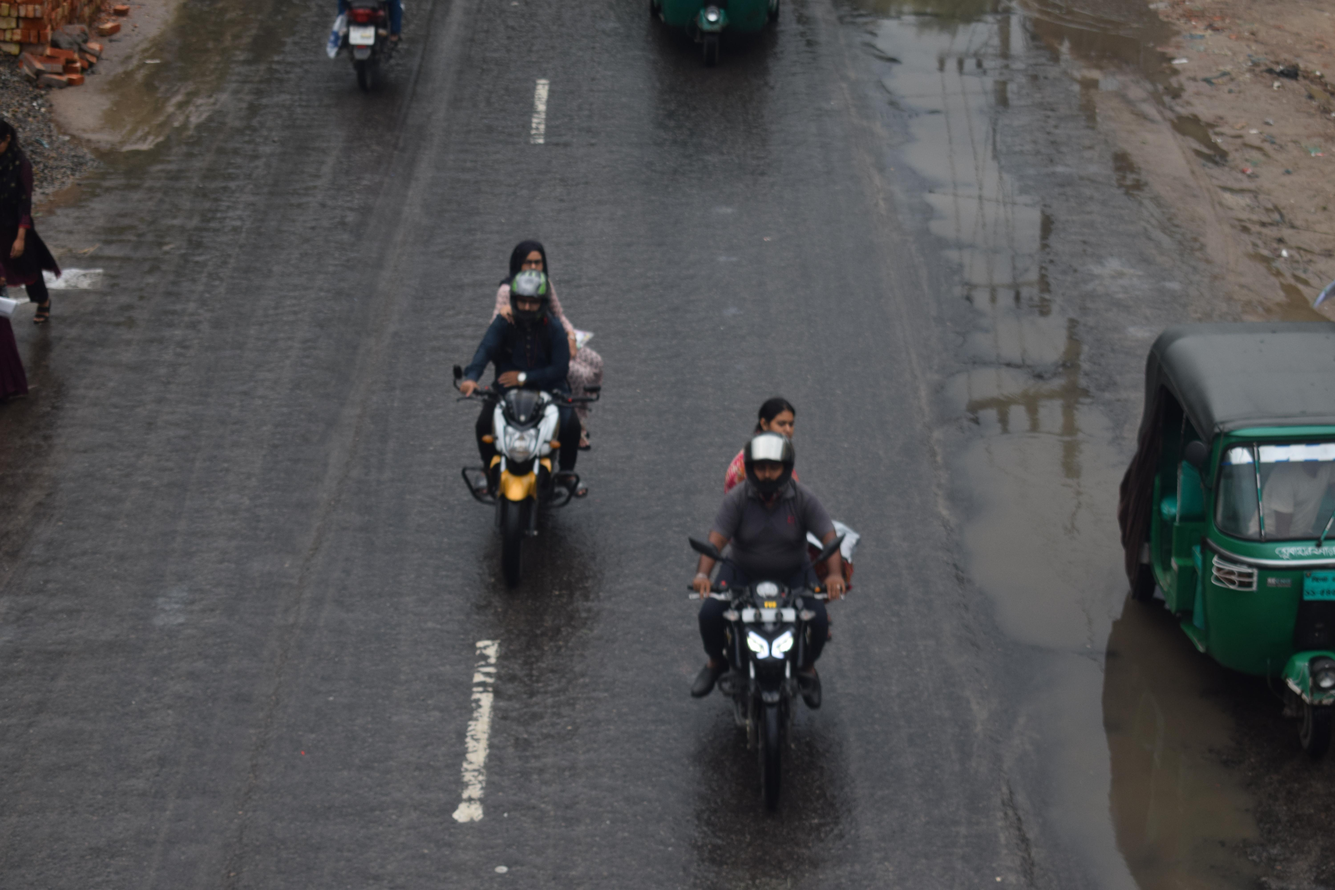Bike: (635, 362, 911, 841), (405, 189, 665, 665)
